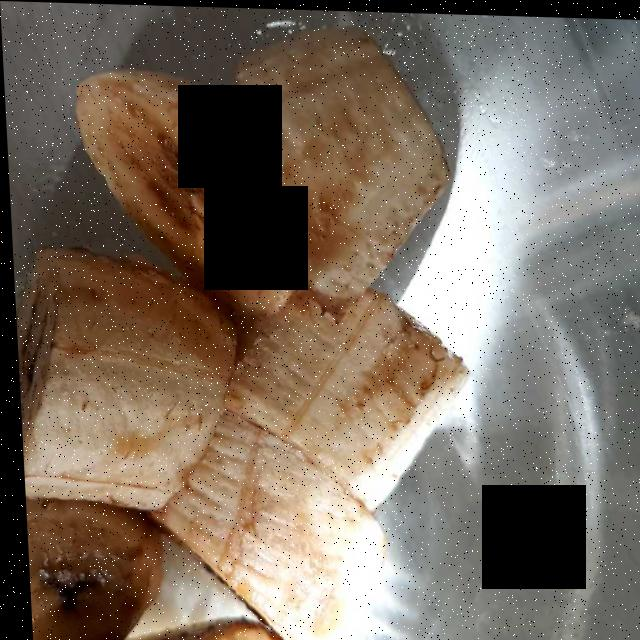banana: (33, 29, 482, 623), (33, 57, 453, 601)
